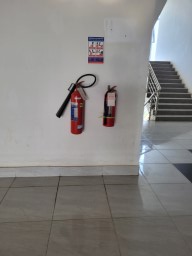fire_extinguisher: (55, 127, 101, 181), (64, 99, 95, 119)
